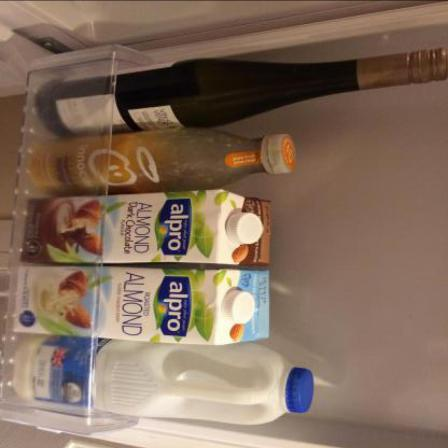Bottle: (36, 47, 448, 139), (14, 335, 315, 426), (29, 128, 297, 198)
Bottle cap: (286, 368, 315, 414), (228, 214, 264, 246), (223, 291, 256, 325), (269, 135, 297, 175), (419, 47, 448, 84)
Carton: (15, 265, 272, 346), (21, 190, 271, 267)
